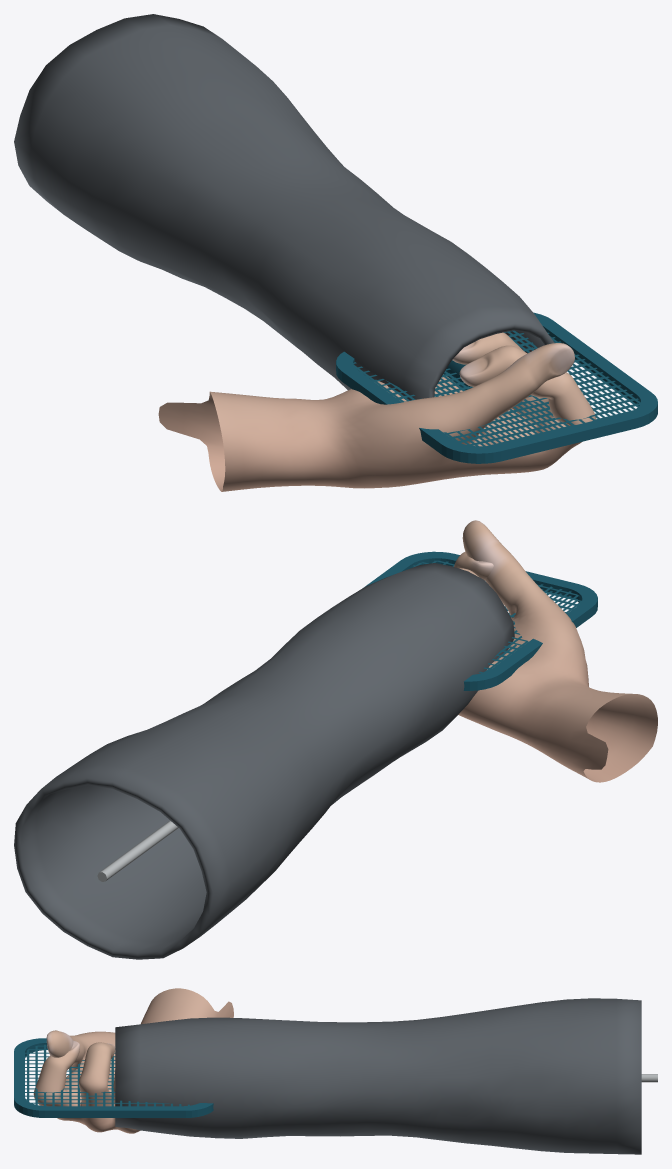
File: arm.glb
3 renders of one model, top to bottom at view 1: azimuth 30°, elevation 25°; view 2: azimuth 150°, elevation 25°; view 3: azimuth 270°, elevation 25°, orthographic. The views are drawn at different scales.
Parts seen in each view (by area): view 1: onderarm, hand, mepper_kop; view 2: onderarm, hand, mepper_kop, mepper_steel; view 3: onderarm, hand, mepper_kop.
Boxes of the visible parts, left/top/right/bottom form: onderarm: left=14, top=14, right=554, bottom=400; hand: left=158, top=332, right=596, bottom=491; mepper_kop: left=336, top=312, right=657, bottom=463; onderarm: left=14, top=563, right=514, bottom=959; hand: left=454, top=520, right=657, bottom=782; mepper_kop: left=363, top=551, right=597, bottom=690; mepper_steel: left=97, top=820, right=178, bottom=881; onderarm: left=115, top=998, right=641, bottom=1154; hand: left=33, top=988, right=233, bottom=1133; mepper_kop: left=14, top=1038, right=213, bottom=1117.
Bounding box in the file's own units: 0.1925 × 0.0985 × 0.416.
Materials: 5 (1 with a texture image).
